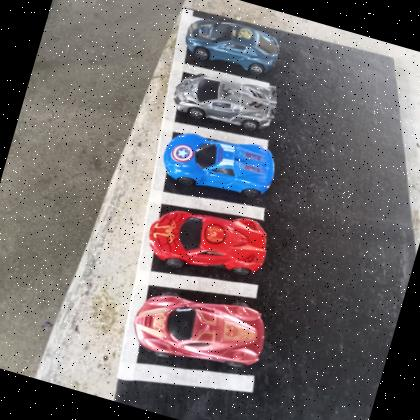Car: (125, 276, 274, 382), (140, 191, 274, 290), (156, 120, 281, 208), (169, 64, 281, 138), (179, 9, 284, 79)
